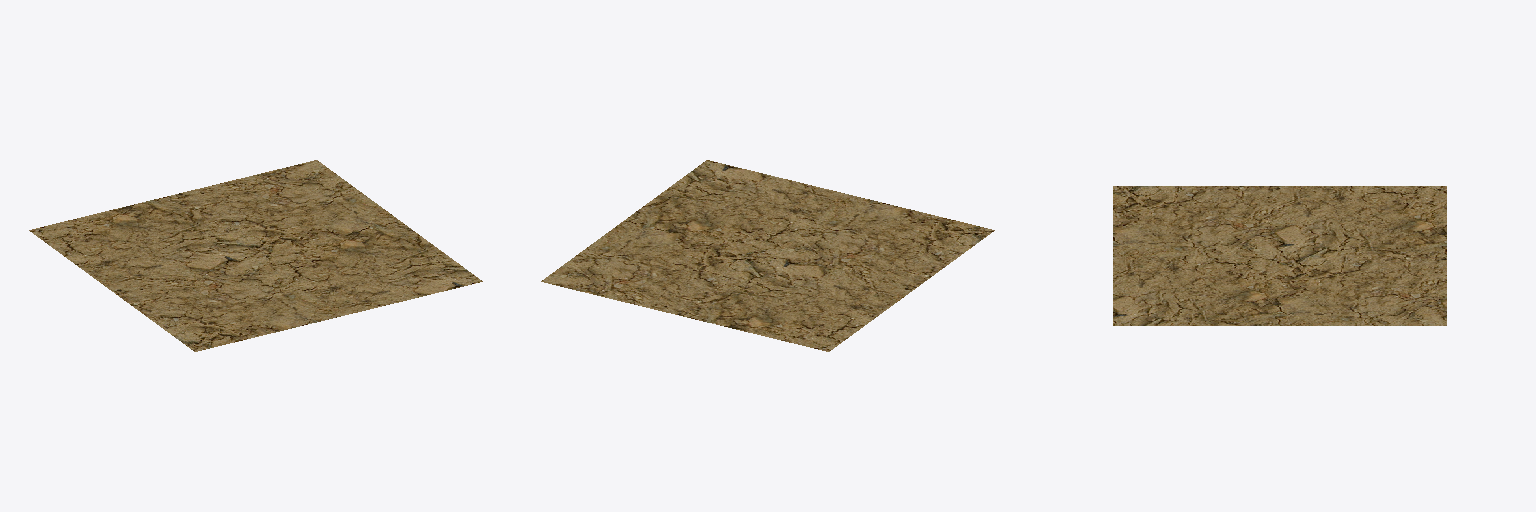
3 renders of one model, left to right at view 1: azimuth 30°, elevation 25°; view 2: azimuth 150°, elevation 25°; view 3: azimuth 270°, elevation 25°, orthographic.
Parts seen in each view (by area): view 1: Plane01; view 2: Plane01; view 3: Plane01.
Boxes of the visible parts, <box> form: Plane01: <box>29,160,482,351</box>; Plane01: <box>541,160,994,351</box>; Plane01: <box>1113,186,1446,325</box>.
Size of the model in its own units: 197 by 0 by 197.
Materials: 1 (1 with a texture image).